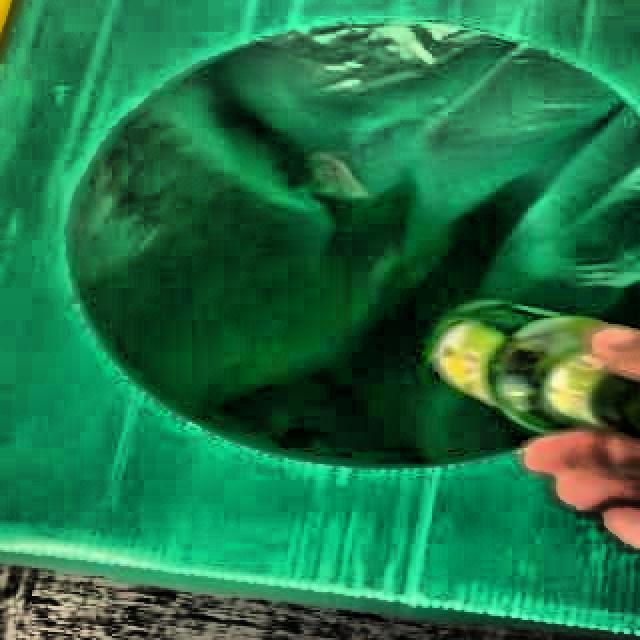glass: (429, 302, 640, 437)
